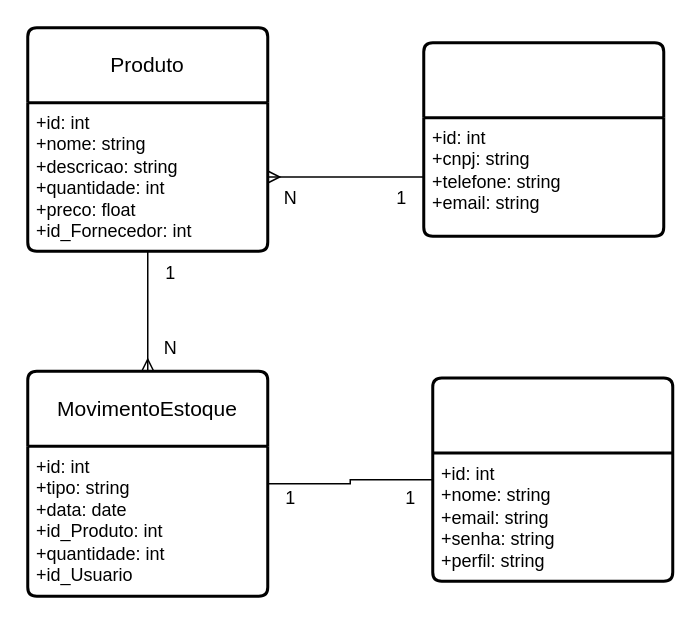
This 699x633 diagram has some shape labels left out. The shapes that lost their labels are listed below. From the top down, each one's box as (x1, y1, x2, y2) in pixels, then its label:
(422, 40, 664, 237): Fornecedor
(430, 376, 674, 582): Usuário
